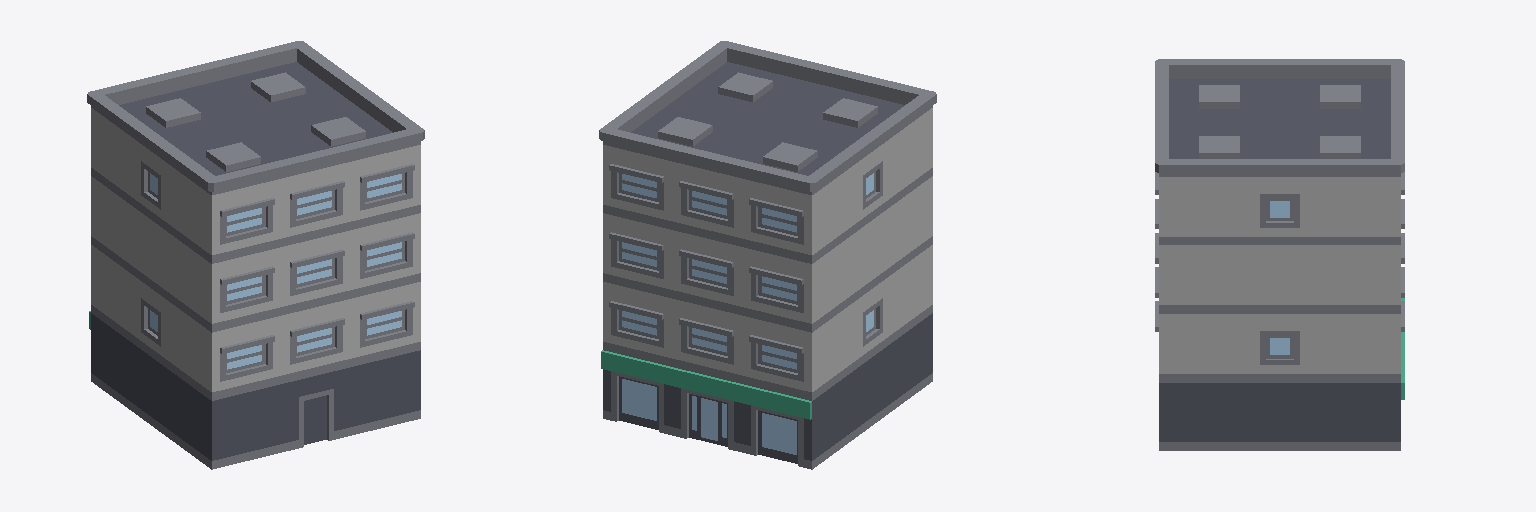
Rendered from city_mall_d.obj.
The picture shows the model from 3 angles: view 1: azimuth 30°, elevation 25°; view 2: azimuth 150°, elevation 25°; view 3: azimuth 270°, elevation 25°; orthographic projection.
Parts seen in each view (by area): view 1: mergedBlocks; view 2: mergedBlocks; view 3: mergedBlocks.
Part boxes in pixels (x1,y1,x2,y2): mergedBlocks: (87,41,424,469); mergedBlocks: (599,41,936,469); mergedBlocks: (1155,59,1404,450).
Bounding box in the file's own units: 0.7936 × 1.01 × 0.7936.